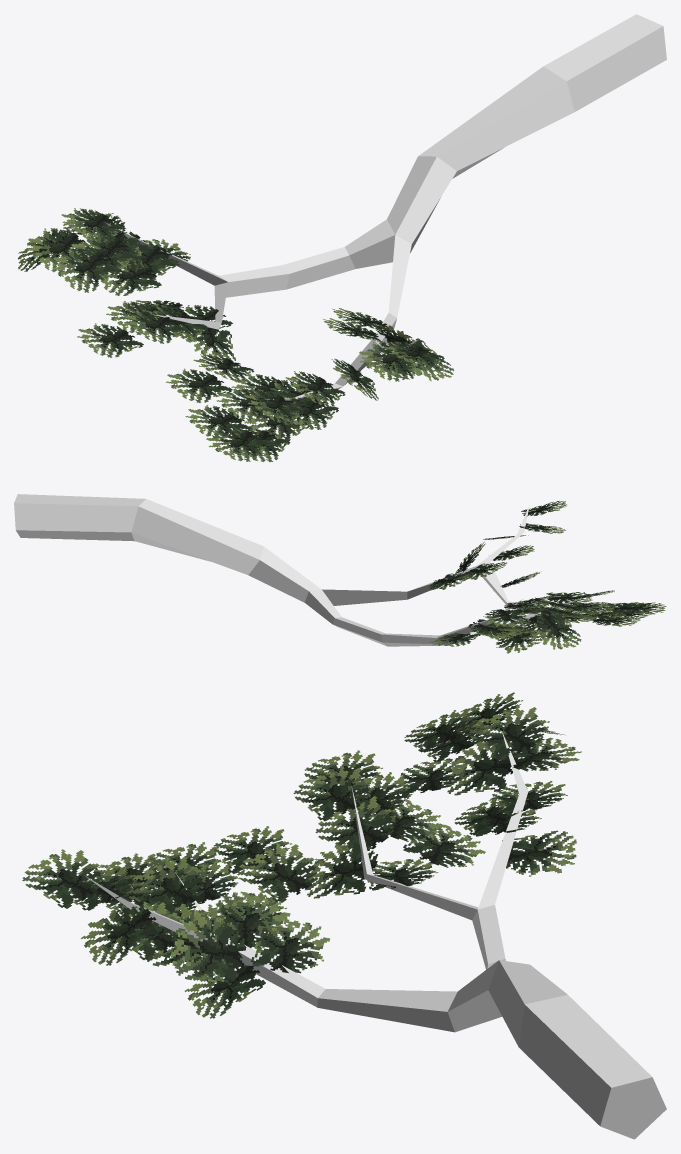
The model's file is TreeArm.fbx.
The picture shows the model from 3 angles, top to bottom: view 1: azimuth 30°, elevation 25°; view 2: azimuth 150°, elevation 25°; view 3: azimuth 270°, elevation 25°; orthographic projection. The views are drawn at different scales.
Visible parts, largest first — view 1: Plane.031; view 2: Plane.031; view 3: Plane.031.
Part boxes in pixels (bbox=[...]): Plane.031: bbox=[18, 14, 666, 461]; Plane.031: bbox=[14, 494, 666, 653]; Plane.031: bbox=[22, 692, 666, 1139].
Bounding box in the file's own units: 860 × 1353 × 286.
